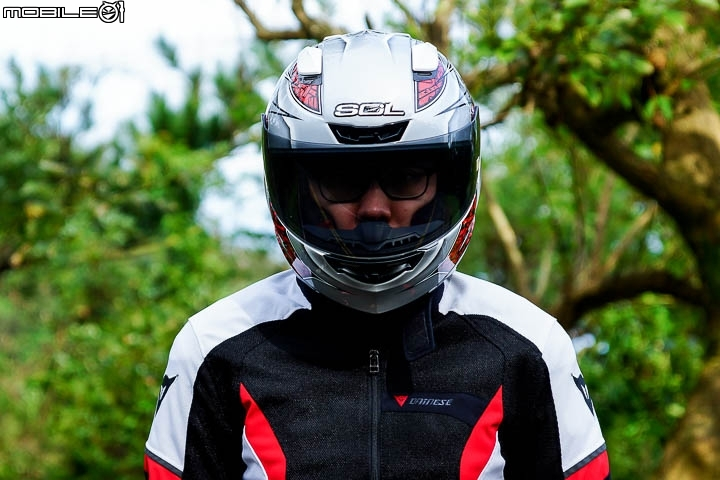helmet: (260, 55, 486, 289)
